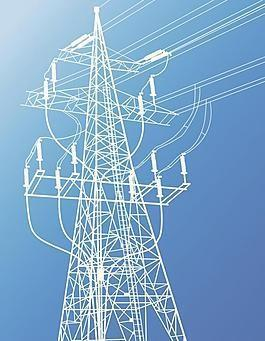power_tower: (24, 3, 213, 341)
